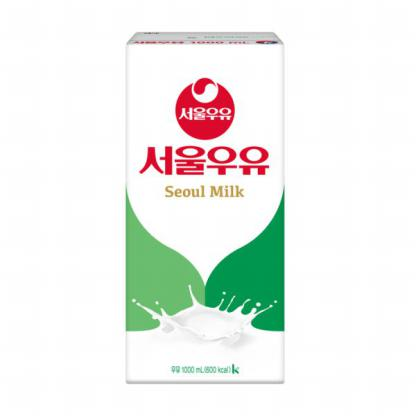tetra: (110, 20, 318, 398)
